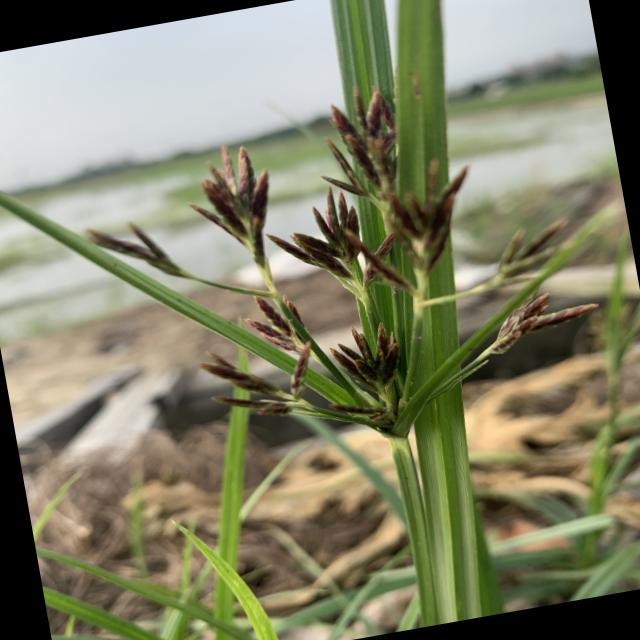cyperus: (59, 46, 628, 492)
